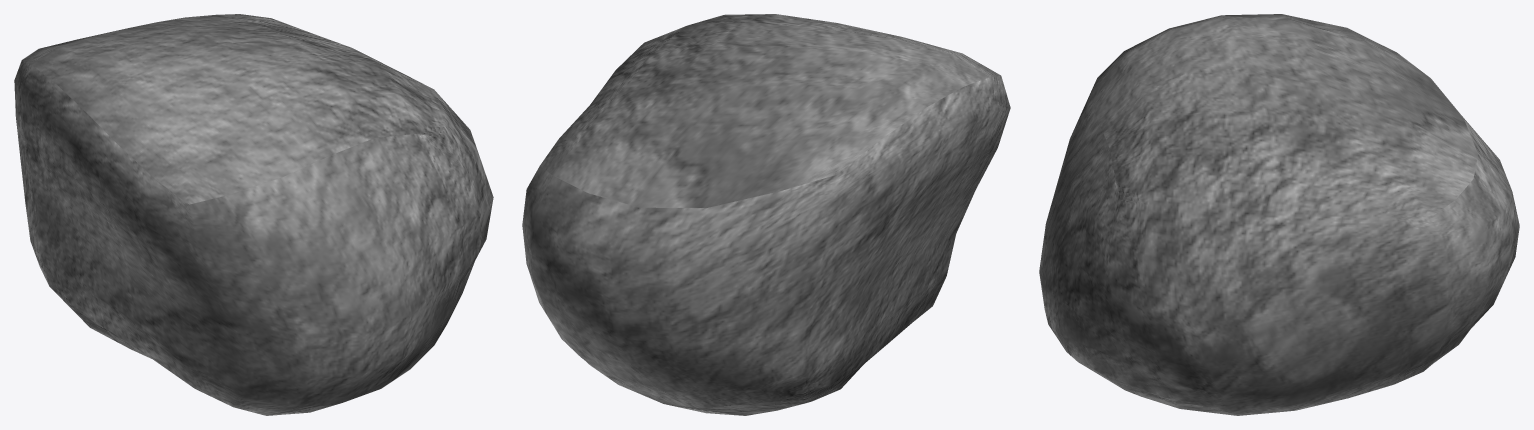
The model's file is medium.fbx.
3 renders of one model, left to right at view 1: azimuth 30°, elevation 25°; view 2: azimuth 150°, elevation 25°; view 3: azimuth 270°, elevation 25°, orthographic. The views are drawn at different scales.
Visible parts, largest first — view 1: Cube; view 2: Cube; view 3: Cube.
Boxes of the visible parts, x1,y1,x2,y2 form: Cube: (14,14,493,415); Cube: (522,14,1010,415); Cube: (1039,14,1519,415).
Size of the model in its own units: 576 by 460 by 666.
